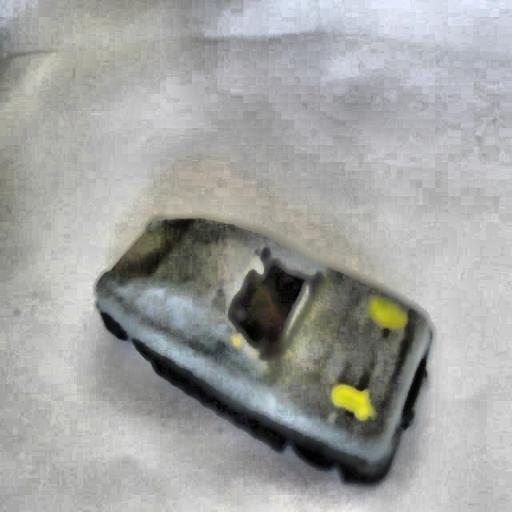normal_car: (91, 211, 436, 488)
